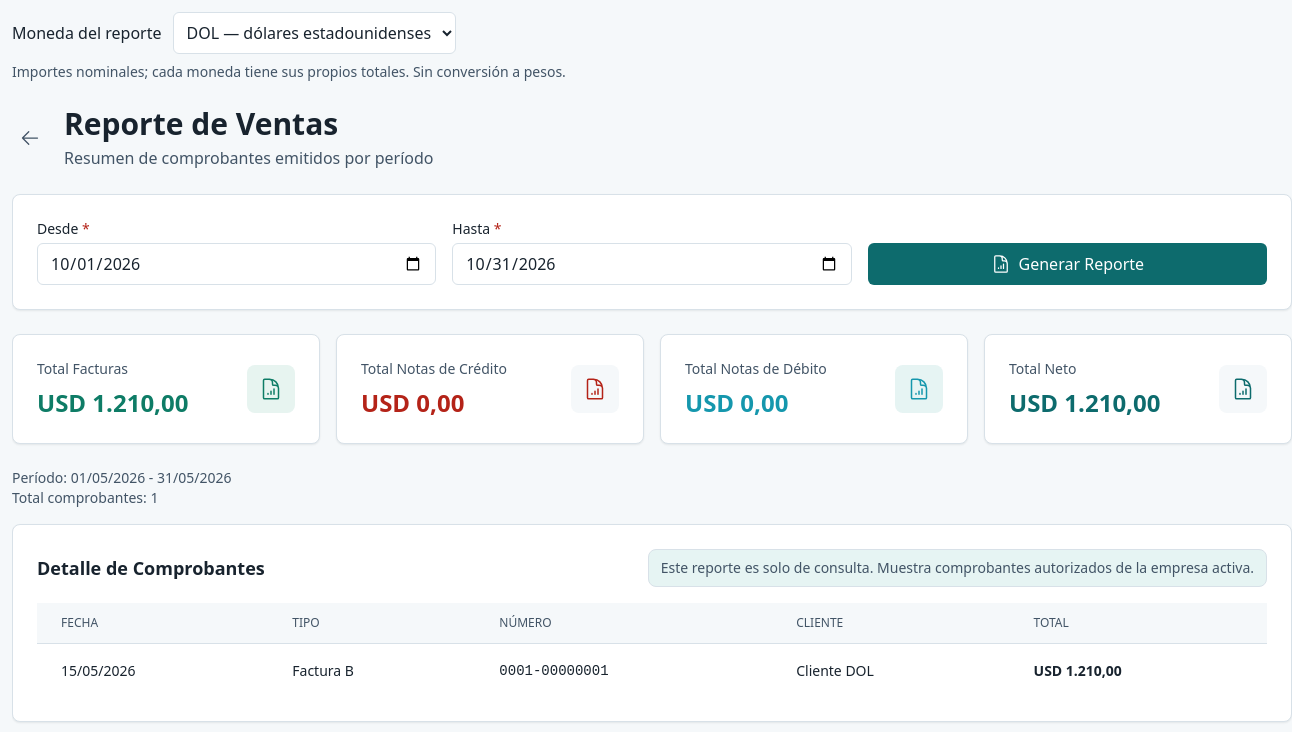
Test case: ReporteVentasView › separa filas y totales por moneda sin sumar pesos y dólares
Expected: the text "Cliente PES" is not shown
Select "PES — pesos argentinos" in the dropdown with id "moneda-reporte" at (315, 33), box left=174, top=12, right=456, bottom=54
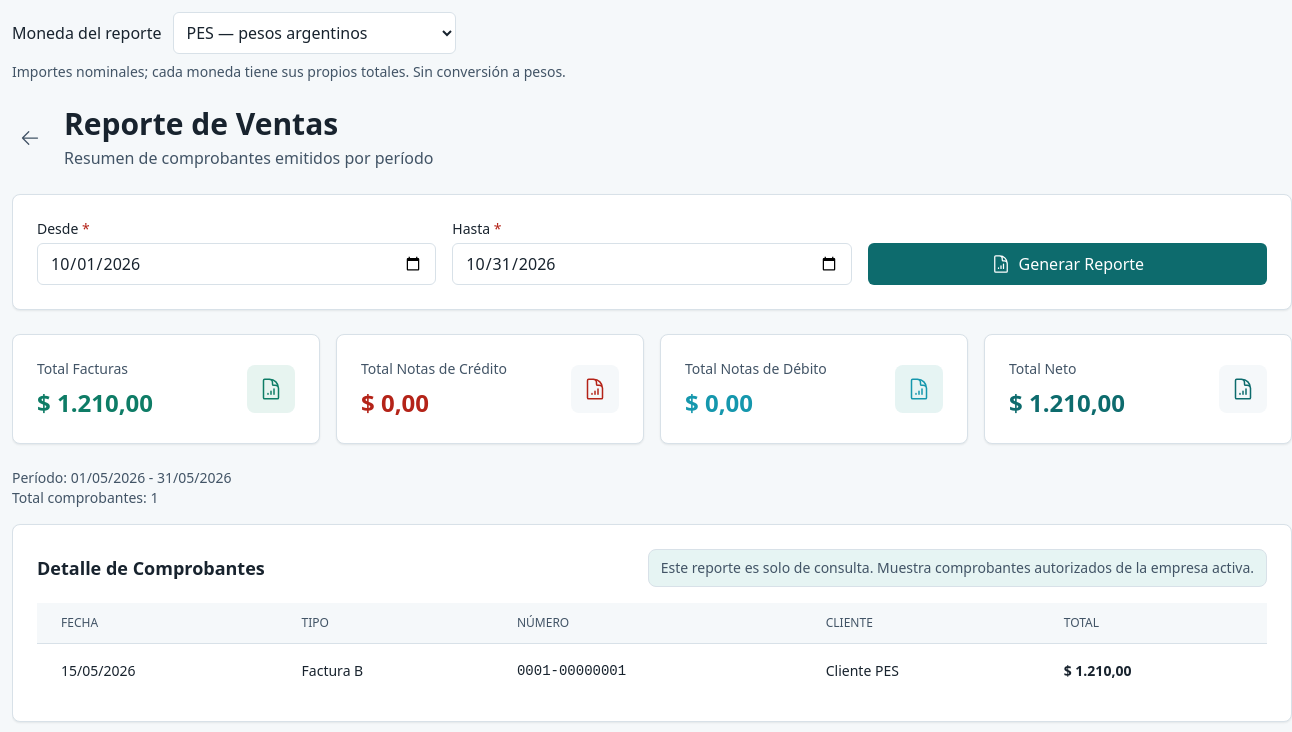
Result: the text "Cliente PES" is shown at left=826, top=660, right=899, bottom=680
Result: the text "Cliente DOL" is gone
